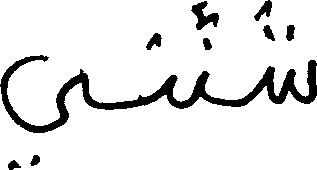X: (0, 50, 87, 169), (266, 0, 316, 108), (194, 0, 208, 107), (161, 33, 178, 112)
